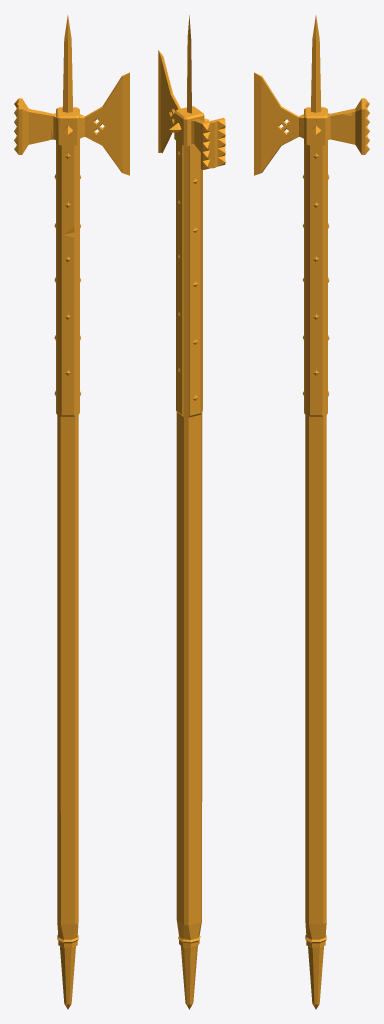
The model's file is SM_Polearm_Axe_A.fbx.
The picture shows the model from 3 angles, left to right: view 1: azimuth 90°, elevation 25°; view 2: azimuth 210°, elevation 25°; view 3: azimuth 270°, elevation 25°; orthographic projection.
Visible parts, largest first — view 1: polearm-axe-a; view 2: polearm-axe-a; view 3: polearm-axe-a.
Boxes of the visible parts, x1,y1,x2,y2 form: polearm-axe-a: (14, 15, 129, 1009); polearm-axe-a: (158, 15, 225, 1009); polearm-axe-a: (254, 15, 369, 1009).
Size of the model in its own units: 0.097 by 2.24 by 0.2366.
